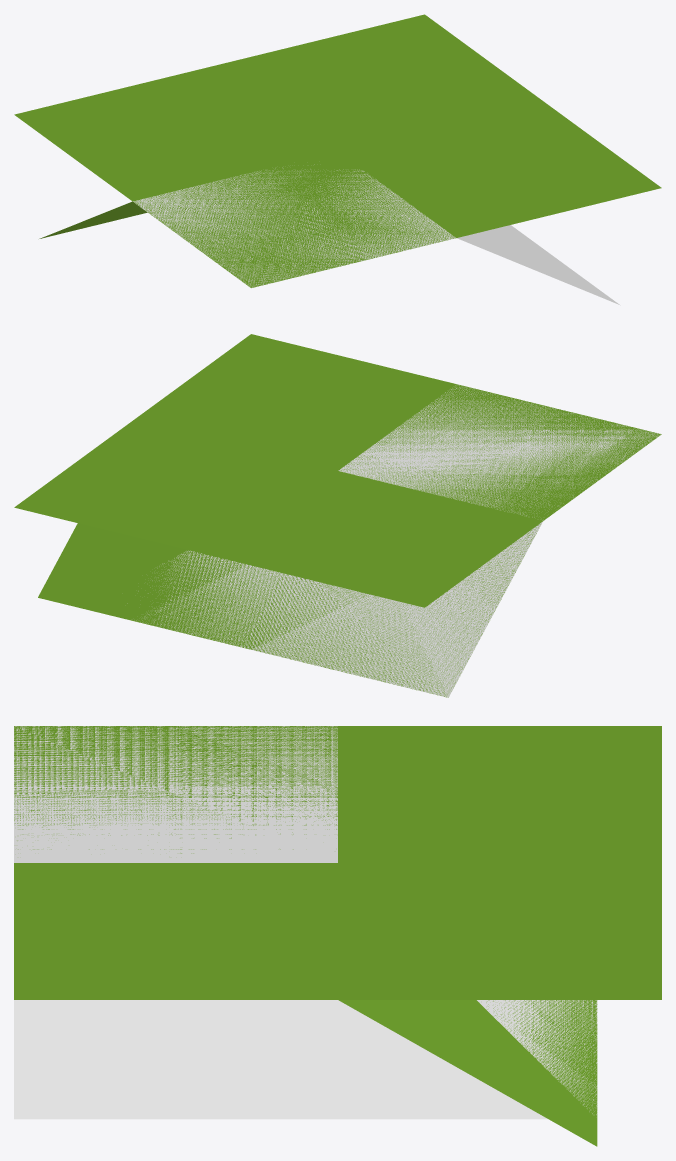
Rendered from wfc_modules.glb.
3 renders of one model, top to bottom at view 1: azimuth 30°, elevation 25°; view 2: azimuth 150°, elevation 25°; view 3: azimuth 270°, elevation 25°, orthographic. The views are drawn at different scales.
Visible parts, largest first — view 1: wfc_module_2, wfc_module_0, wfc_module_3, wfc_module_1; view 2: wfc_module_0, wfc_module_1, wfc_module_3, wfc_module_2; view 3: wfc_module_2, wfc_module_1, wfc_module_0, wfc_module_3.
Boxes of the visible parts, x1=… form: wfc_module_2: x1=15, y1=15, x2=660, y2=286; wfc_module_0: x1=14, y1=14, x2=661, y2=287; wfc_module_3: x1=39, y1=101, x2=659, y2=286; wfc_module_1: x1=133, y1=164, x2=620, y2=305; wfc_module_0: x1=14, y1=334, x2=661, y2=607; wfc_module_1: x1=127, y1=385, x2=660, y2=697; wfc_module_3: x1=38, y1=334, x2=651, y2=697; wfc_module_2: x1=15, y1=335, x2=658, y2=607; wfc_module_2: x1=14, y1=726, x2=661, y2=999; wfc_module_1: x1=14, y1=726, x2=597, y2=1119; wfc_module_0: x1=14, y1=726, x2=661, y2=999; wfc_module_3: x1=14, y1=726, x2=597, y2=1146.
Bounding box in the file's own units: 1 × 0.25 × 1.
